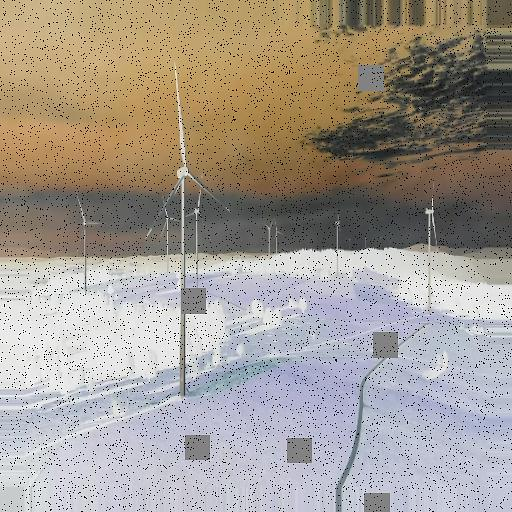wind turbine: (145, 64, 232, 399), (71, 195, 106, 294), (160, 197, 180, 258)
